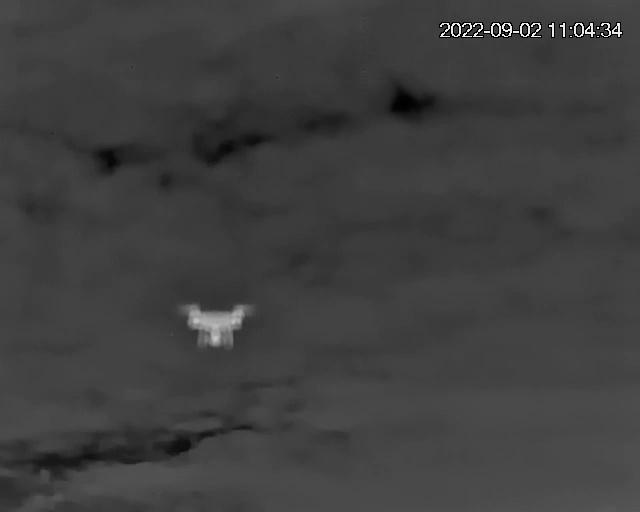DJI-Phantom: (181, 302, 255, 348)
